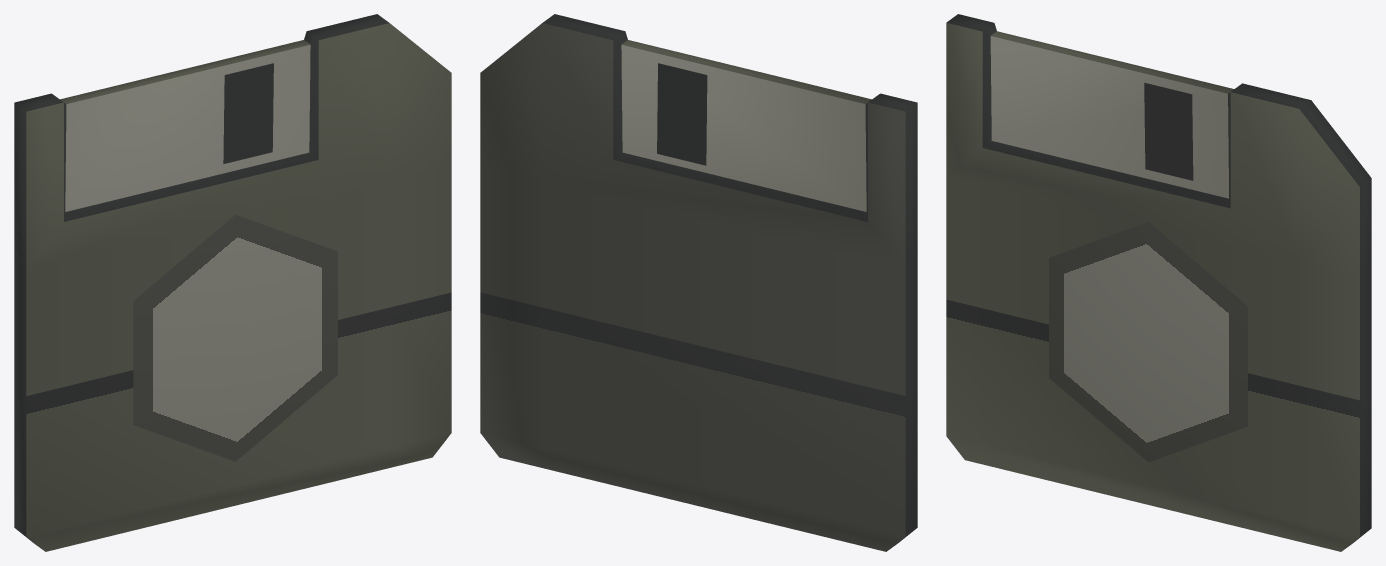
3 views of the same model, side by side, from view 1: azimuth 30°, elevation 25°; view 2: azimuth 150°, elevation 25°; view 3: azimuth 330°, elevation 25° (orthographic). The views are drawn at different scales.
Parts seen in each view (by area): view 1: Plane.050; view 2: Plane.050; view 3: Plane.050.
Part boxes in pixels (bbox=[...]): Plane.050: bbox=[14, 14, 451, 551]; Plane.050: bbox=[480, 14, 917, 551]; Plane.050: bbox=[946, 14, 1371, 551].
Bounding box in the file's own units: 0.4061 × 0.4061 × 0.0387.
Materials: 1 (1 with a texture image).
